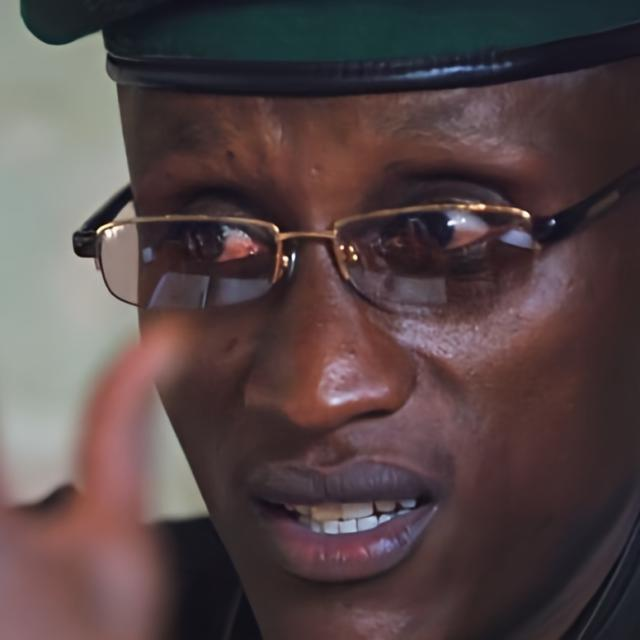disgust: (113, 79, 640, 640)
